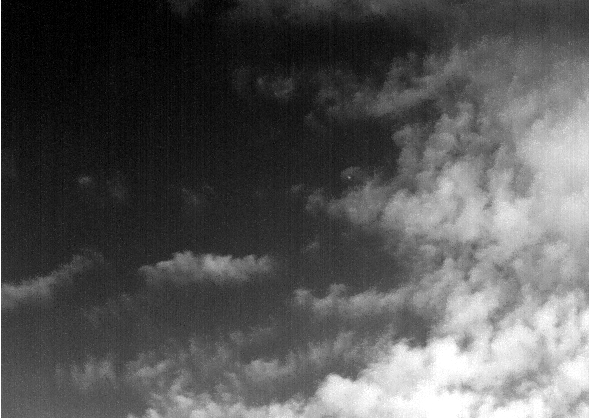dim target: (347, 175, 351, 180)
